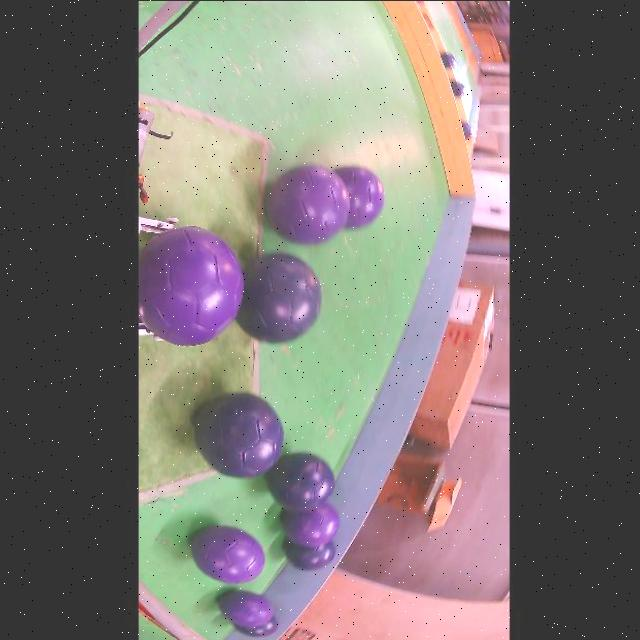B: (236, 252, 321, 343), (195, 392, 284, 477), (267, 452, 334, 510), (284, 539, 335, 570), (235, 615, 278, 636)
P: (138, 225, 242, 345), (264, 165, 349, 243), (191, 525, 264, 583), (335, 166, 384, 228), (281, 503, 339, 547), (218, 589, 273, 627)
